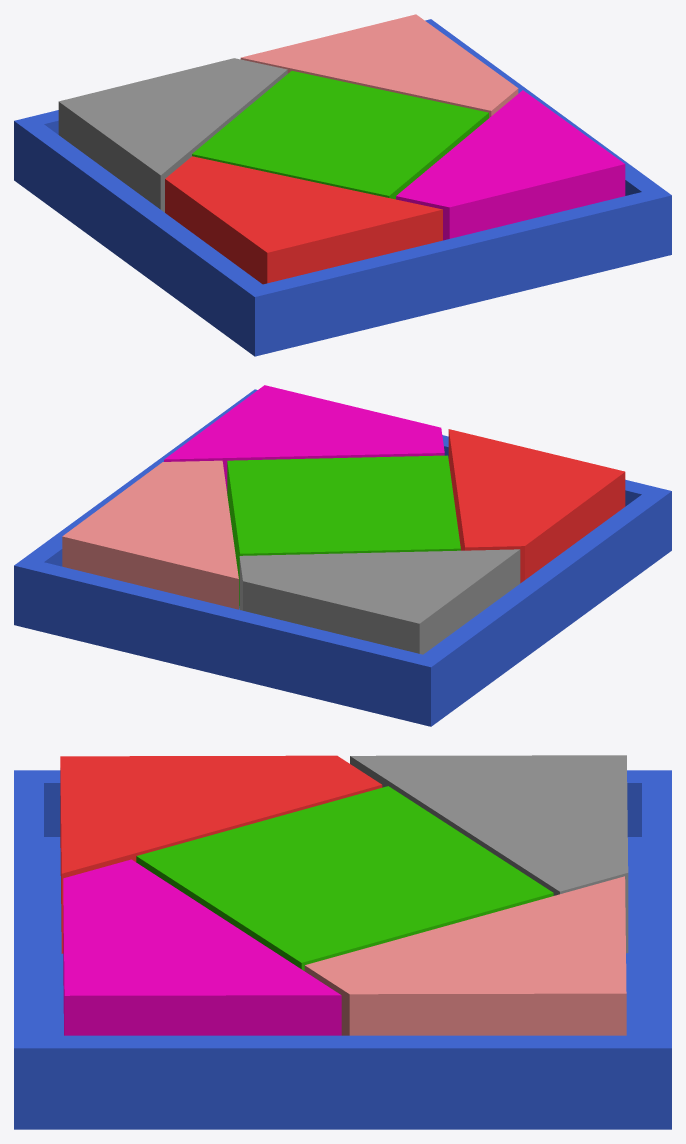
Rendered from Sketchfab_2018_11_25_00_06_09.fbx.
3 renders of one model, top to bottom at view 1: azimuth 30°, elevation 25°; view 2: azimuth 150°, elevation 25°; view 3: azimuth 270°, elevation 25°, orthographic. The views are drawn at different scales.
Visible parts, largest first — view 1: Piano, Curve.006, Curve.002, Curve.005, Curve.004, Curve.003; view 2: Piano, Curve.006, Curve.004, Curve.003, Curve.002, Curve.005; view 3: Piano, Curve.006, Curve.003, Curve.005, Curve.004, Curve.002.
Boxes of the visible parts, x1,y1,x2,y2 form: Piano: (14, 19, 671, 356); Curve.006: (192, 71, 488, 199); Curve.002: (165, 156, 442, 284); Curve.005: (396, 90, 625, 240); Curve.004: (58, 58, 287, 212); Curve.003: (240, 14, 518, 117); Piano: (14, 389, 671, 726); Curve.006: (227, 455, 460, 607); Curve.004: (239, 549, 520, 654); Curve.003: (62, 460, 238, 609); Curve.002: (448, 429, 625, 583); Curve.005: (164, 385, 444, 493); Piano: (14, 770, 671, 1129); Curve.006: (136, 786, 553, 970); Curve.003: (304, 876, 626, 1035); Curve.005: (63, 859, 341, 1035); Curve.004: (350, 755, 628, 953); Curve.002: (60, 755, 382, 953).
Bounding box in the file's own units: 22.32 × 4.3 × 22.32.
